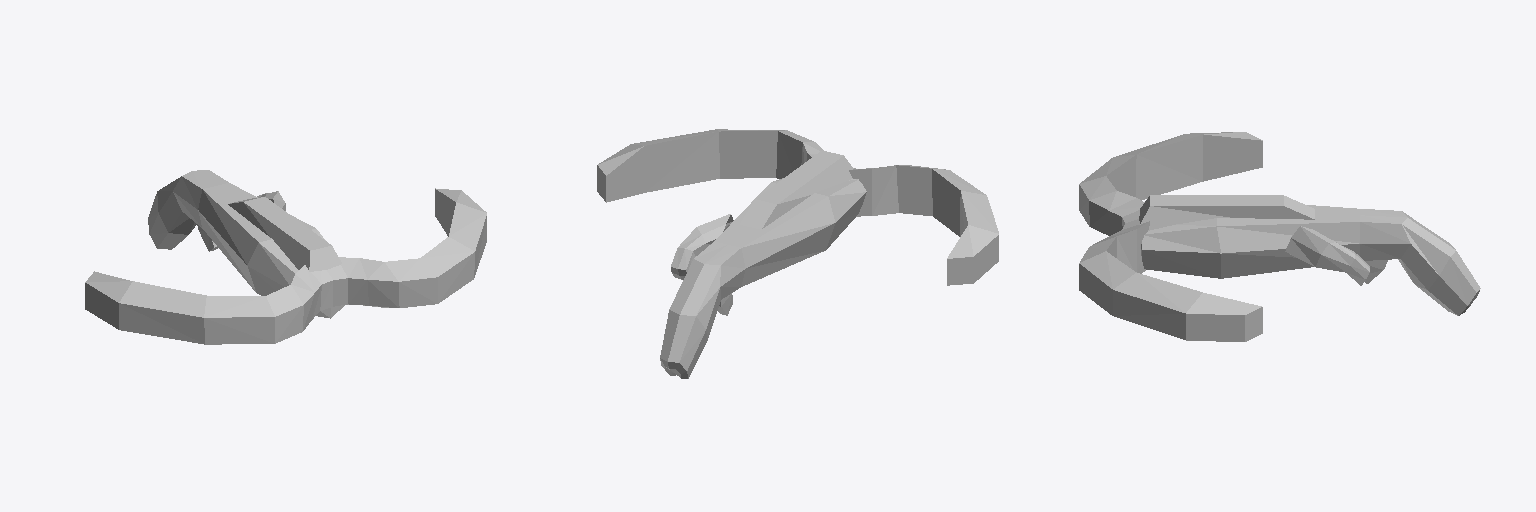
The model's file is crossbow_common.obj.
The picture shows the model from 3 angles: view 1: azimuth 30°, elevation 25°; view 2: azimuth 150°, elevation 25°; view 3: azimuth 270°, elevation 25°; orthographic projection.
Parts seen in each view (by area): view 1: crossbow_common_Cube.3995; view 2: crossbow_common_Cube.3995; view 3: crossbow_common_Cube.3995.
Part boxes in pixels (left/top/right/bottom): crossbow_common_Cube.3995: left=85, top=170, right=486, bottom=344; crossbow_common_Cube.3995: left=597, top=129, right=998, bottom=378; crossbow_common_Cube.3995: left=1079, top=132, right=1480, bottom=341.
Bounding box in the file's own units: 0.691 × 0.1945 × 0.6382.